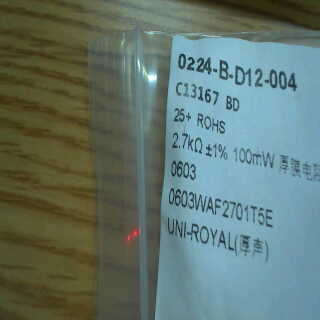2.7kR: (170, 129, 206, 155)
